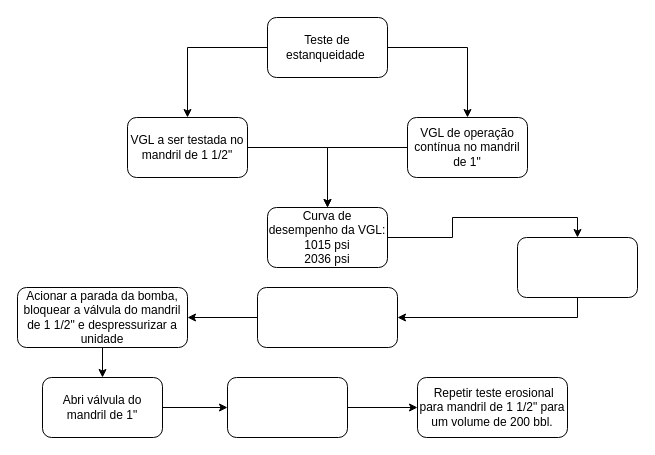
Some shapes in this 655 by 455 pixel diagram are drawn without their labels. Each missing label, with the centre of its shape:
Abri válvula do mandril de 1 1/2": the point at 577,267
Acionar a bomba e repetir teste erosional para mandril de 1": the point at 287,407
Iniciar o teste, manter a vazão constante até atingir o volume de 400 bbl: the point at 327,317
